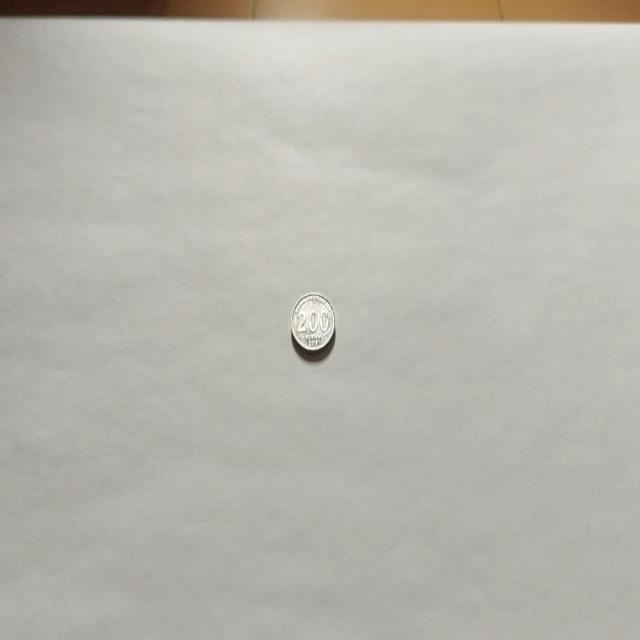dua ratus rupiah: (290, 290, 336, 356)
